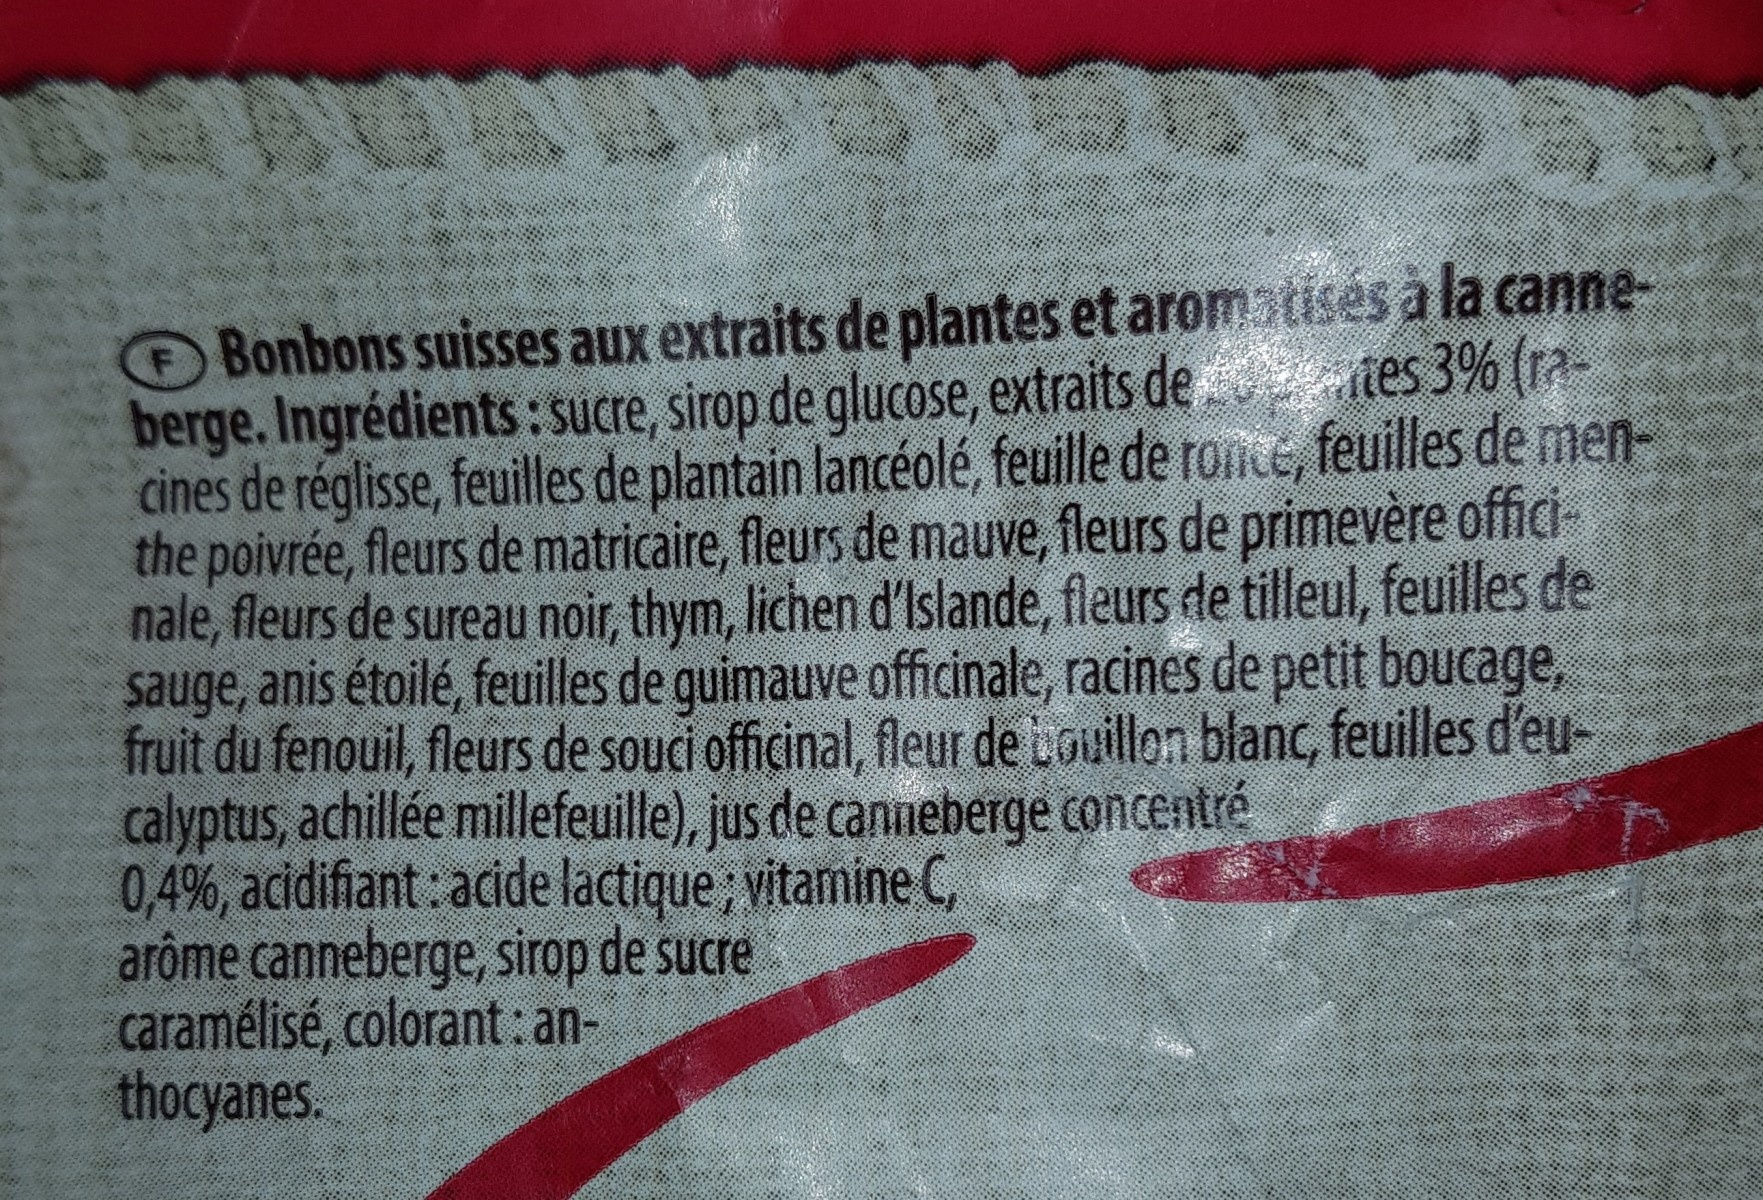ingredients: (87, 321, 1680, 1128)
